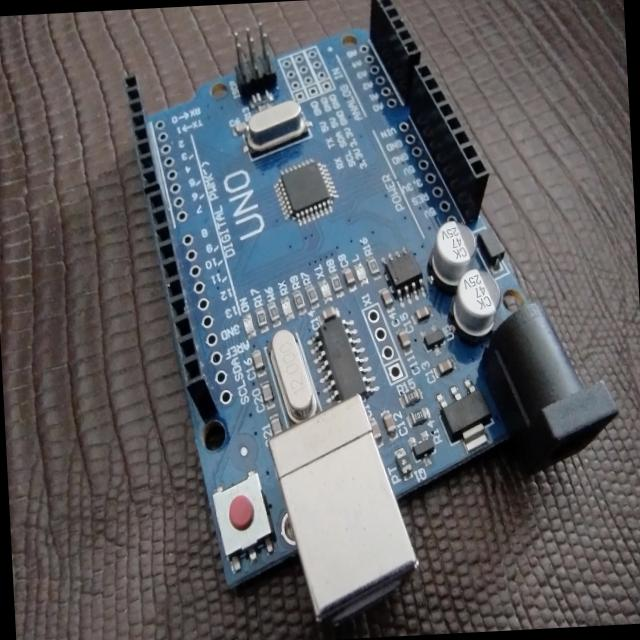arduino: (111, 0, 640, 640)
